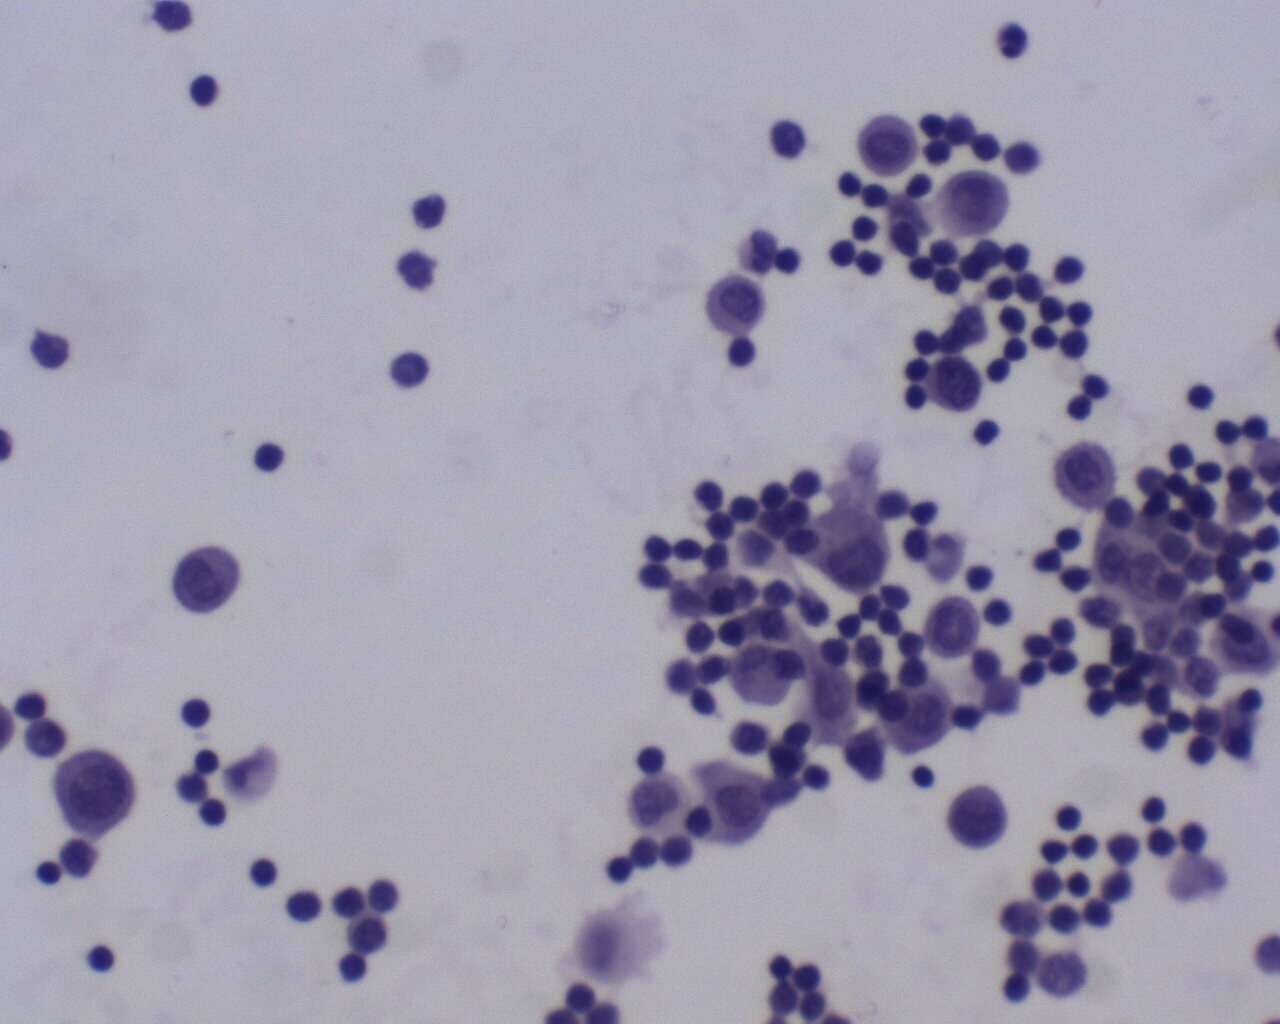ab: (46, 747, 145, 838), (170, 541, 245, 616), (1053, 440, 1118, 515), (945, 783, 1013, 852), (921, 594, 985, 659), (704, 272, 768, 338), (928, 352, 986, 416)
lymph: (764, 112, 809, 165), (184, 64, 227, 116), (389, 342, 430, 393), (176, 692, 219, 734), (1181, 375, 1220, 418), (963, 554, 1000, 598), (248, 437, 288, 474), (1078, 365, 1116, 405), (83, 932, 117, 976), (247, 855, 284, 893), (1186, 734, 1221, 769), (1052, 798, 1087, 835), (1064, 295, 1100, 329), (1178, 819, 1212, 853), (827, 236, 861, 270), (635, 743, 672, 774), (1052, 523, 1087, 555), (934, 264, 964, 300)
meso: (805, 506, 895, 595), (932, 163, 1013, 240), (856, 109, 920, 180)
